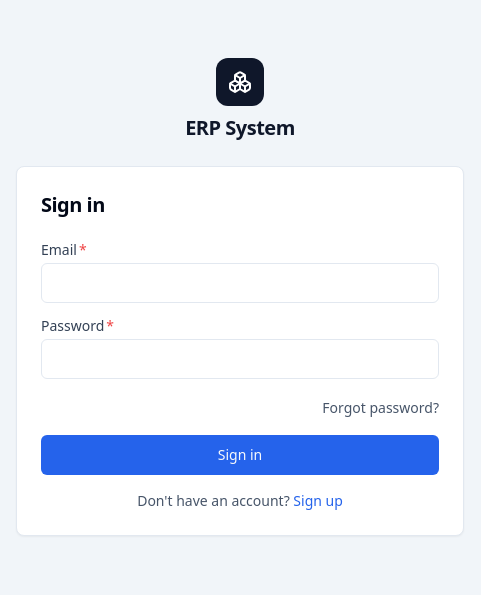
Scenario: <Login /> › switches to registration and asks for the extra fields
What coordinates should you click on to do the following:
click the button "Sign up"
I would click on:
 (318, 501)
Its box is [293,491,343,511].
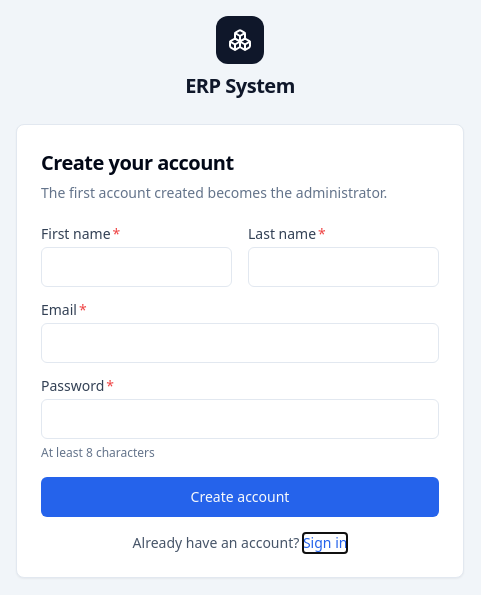
Expected: the field labelled "First name*" is shown, [41,247,232,287]
Expected: the text "The first account created becomes the administrator." is shown, [41,183,439,203]
